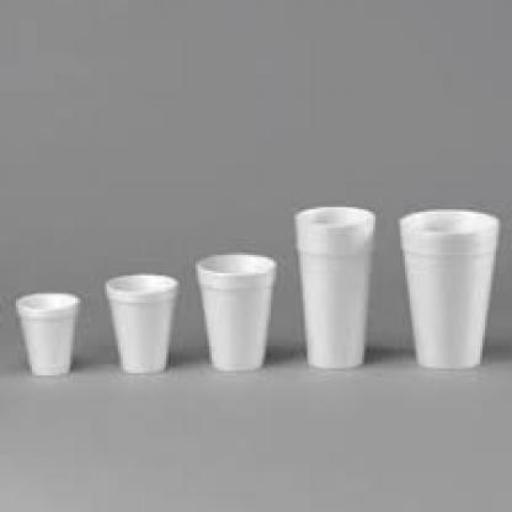paper: (394, 207, 496, 367), (292, 205, 375, 366), (198, 251, 276, 371), (102, 271, 177, 370), (14, 290, 75, 370)
